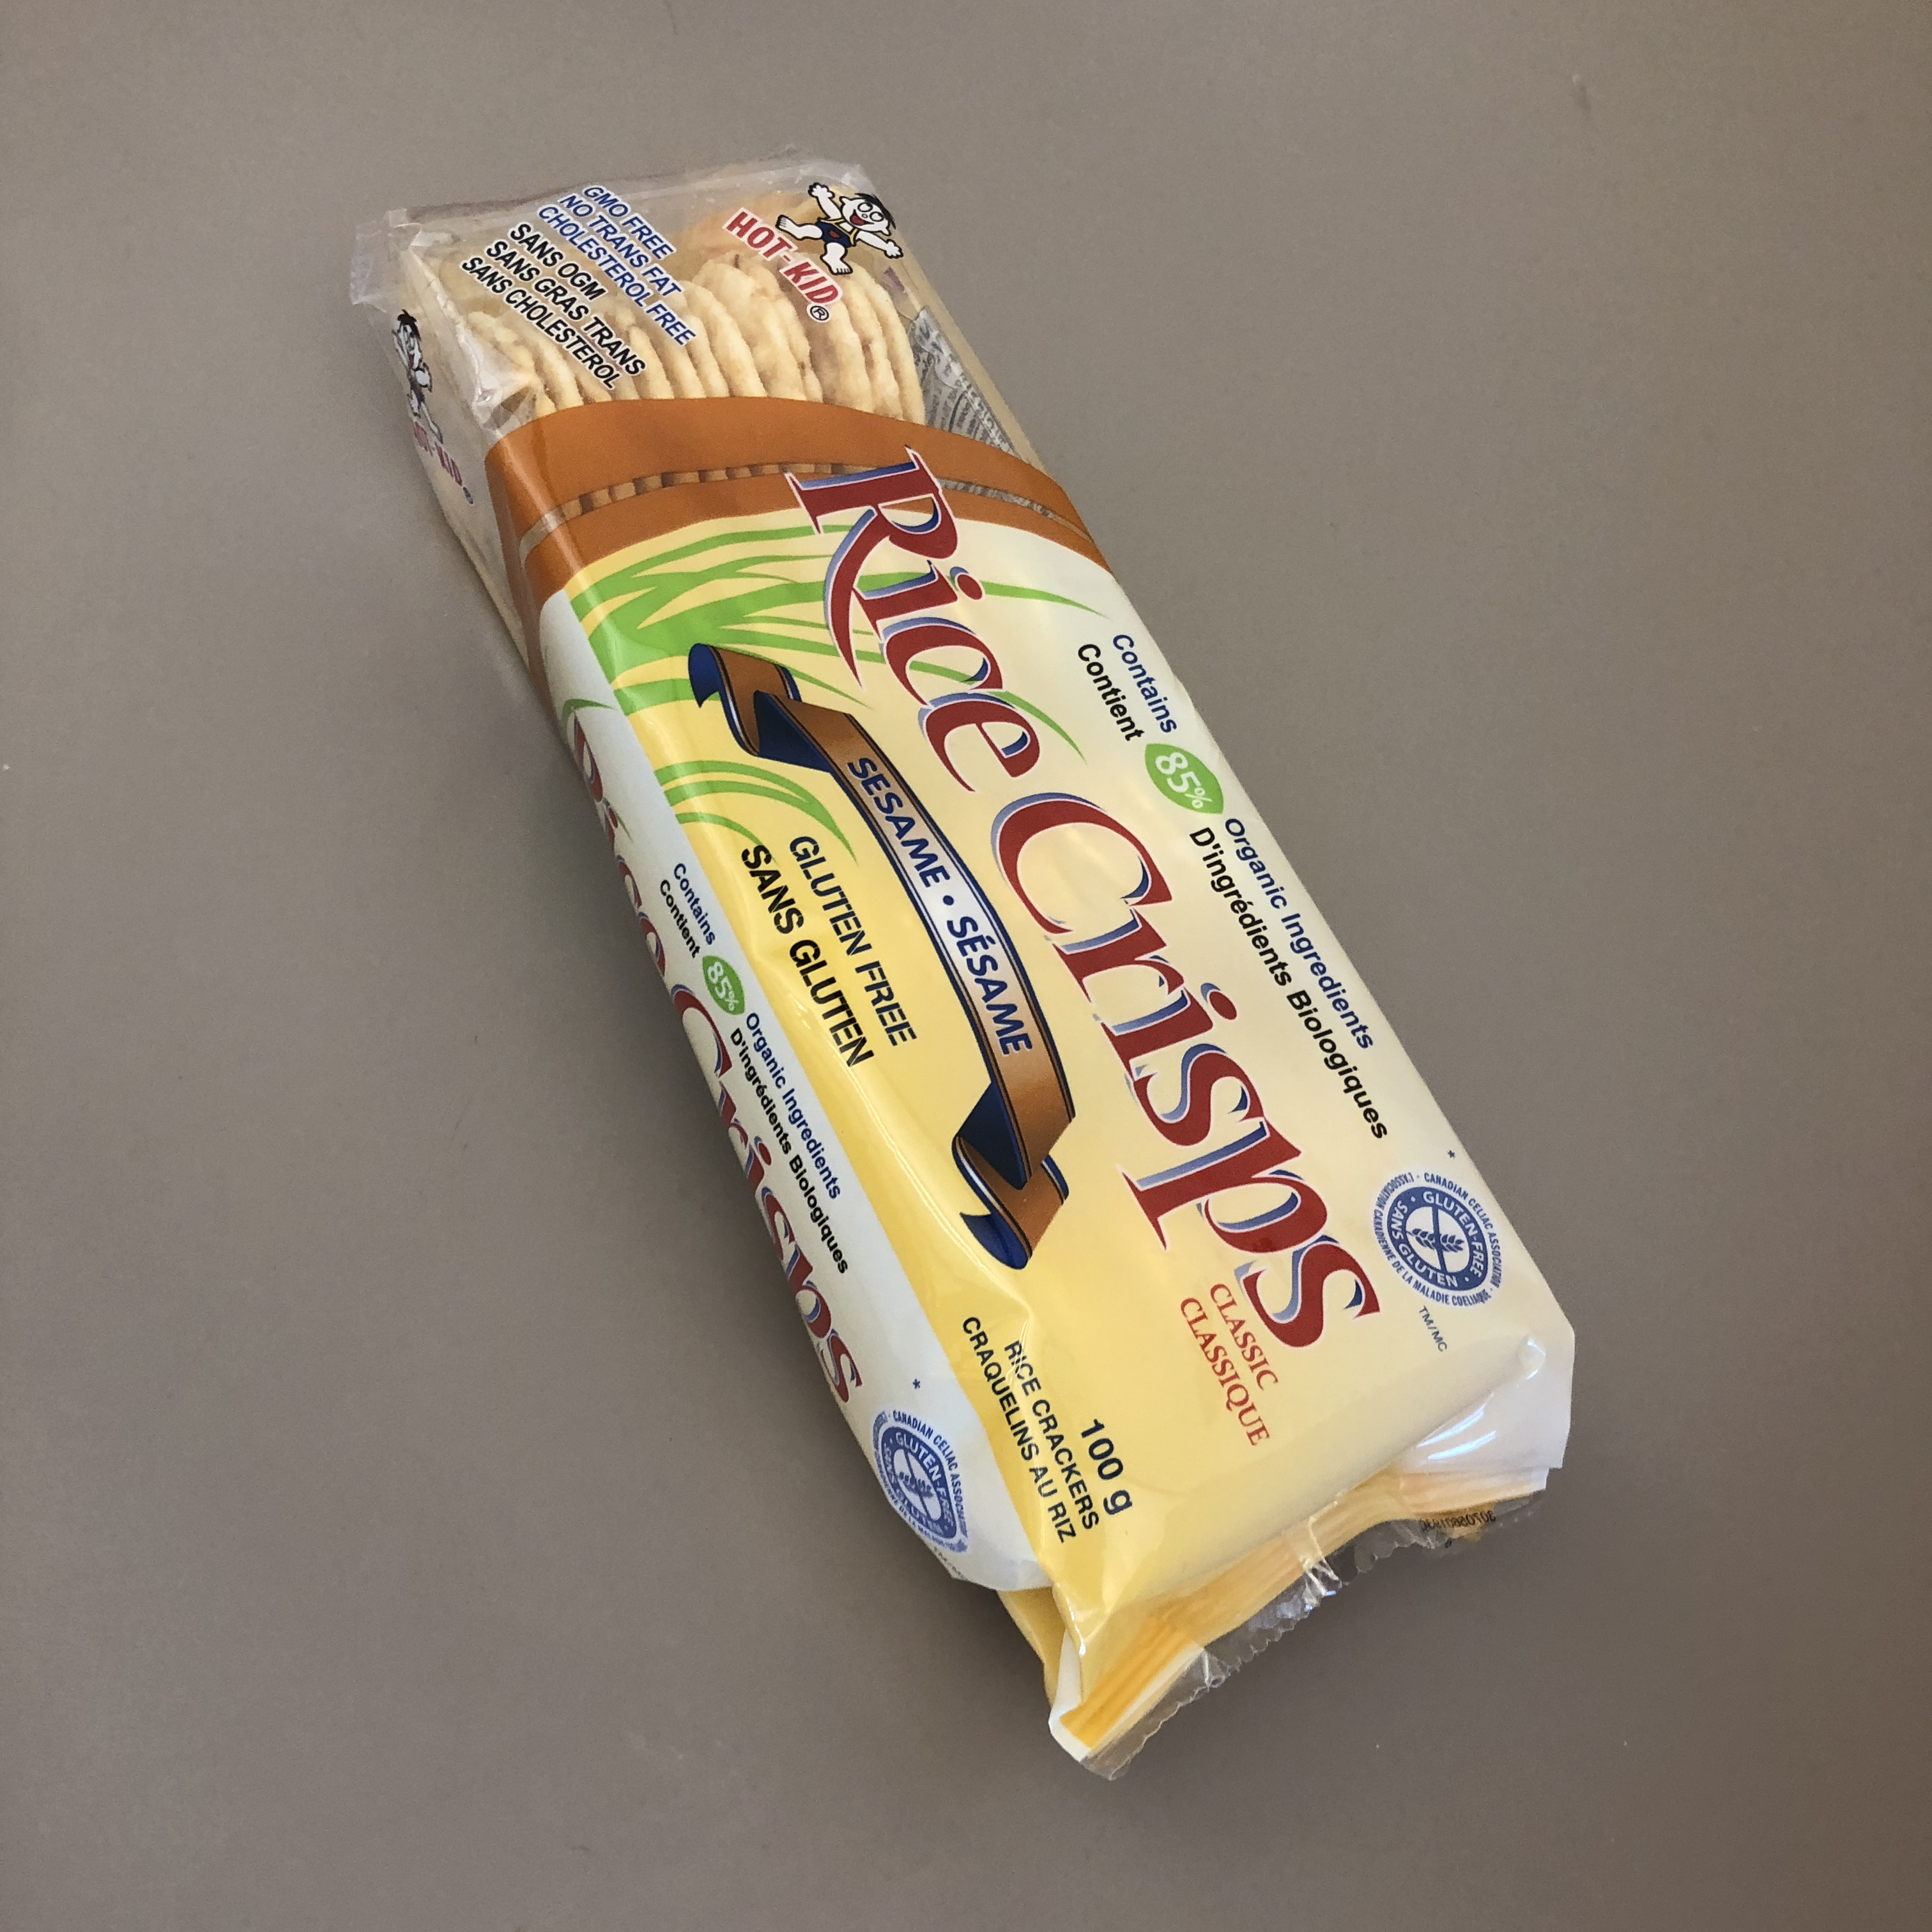hot_kid_rice_crisps_sesame: (150, 552, 1805, 1289)
